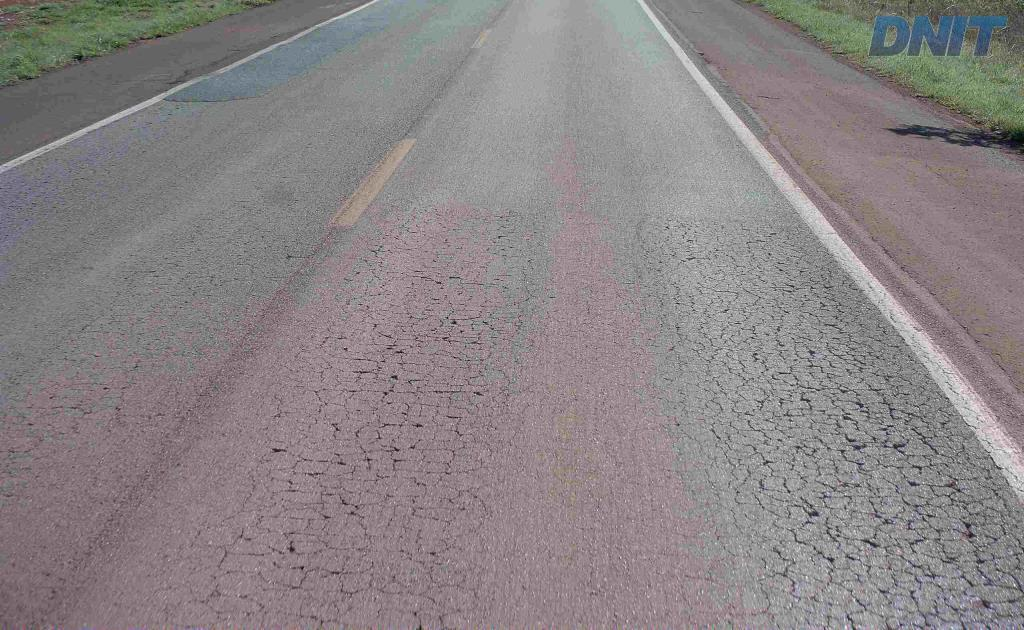crack: (789, 355, 1023, 621), (769, 267, 893, 377), (434, 300, 484, 350)
